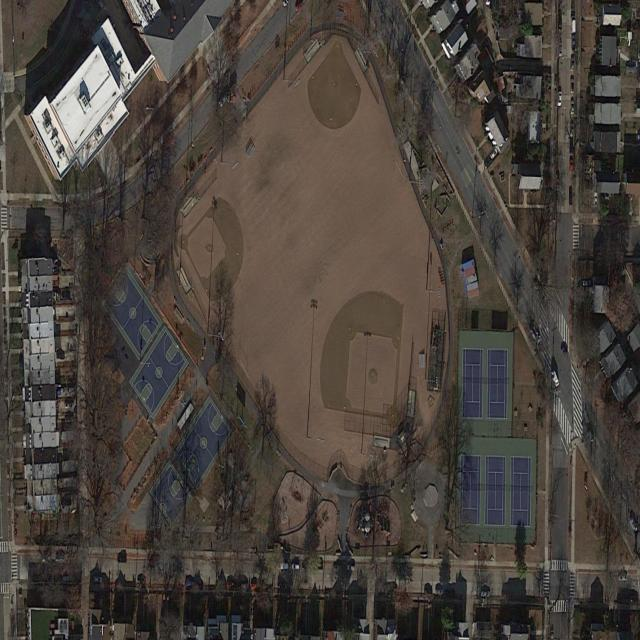small-vehicle: (551, 371, 561, 388), (217, 95, 227, 109), (490, 147, 499, 161), (251, 581, 262, 591), (561, 346, 569, 359), (557, 91, 563, 107), (278, 562, 290, 570), (571, 16, 576, 34), (571, 35, 576, 50), (137, 578, 146, 586), (347, 564, 356, 572), (292, 562, 301, 570), (186, 579, 195, 587), (570, 138, 574, 156), (558, 18, 563, 32), (582, 280, 592, 287), (240, 582, 250, 589), (571, 78, 575, 95), (571, 100, 575, 116), (481, 591, 490, 598), (65, 403, 75, 409), (571, 58, 575, 72), (425, 587, 433, 594), (436, 588, 444, 595), (94, 577, 102, 584), (619, 574, 627, 581), (570, 157, 574, 171), (594, 192, 598, 206), (118, 558, 128, 563), (559, 45, 563, 57), (227, 582, 235, 588), (571, 123, 574, 137)
